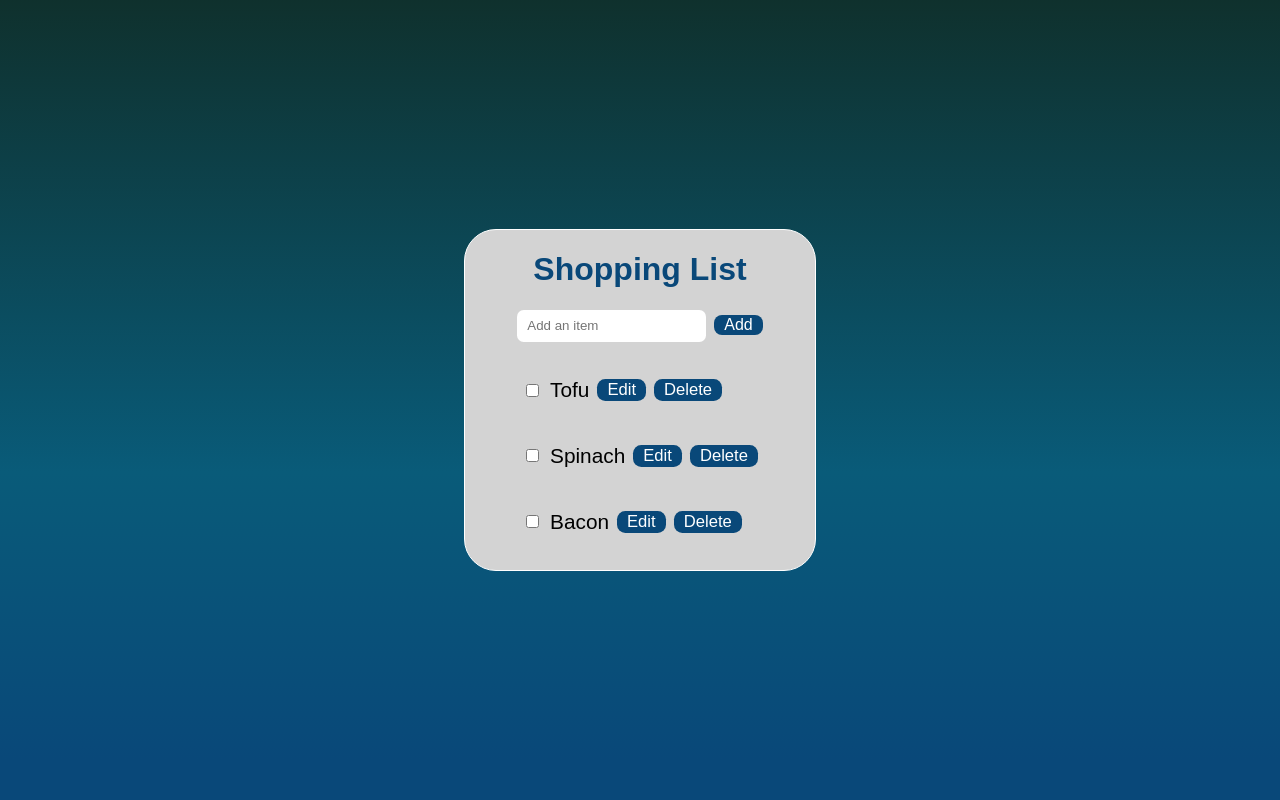
Test case: should delete an item to the list when delete is pressed
Click the button with aria-label "delete Tofu" at (688, 390), box x1=654 y1=379 x2=722 y2=401
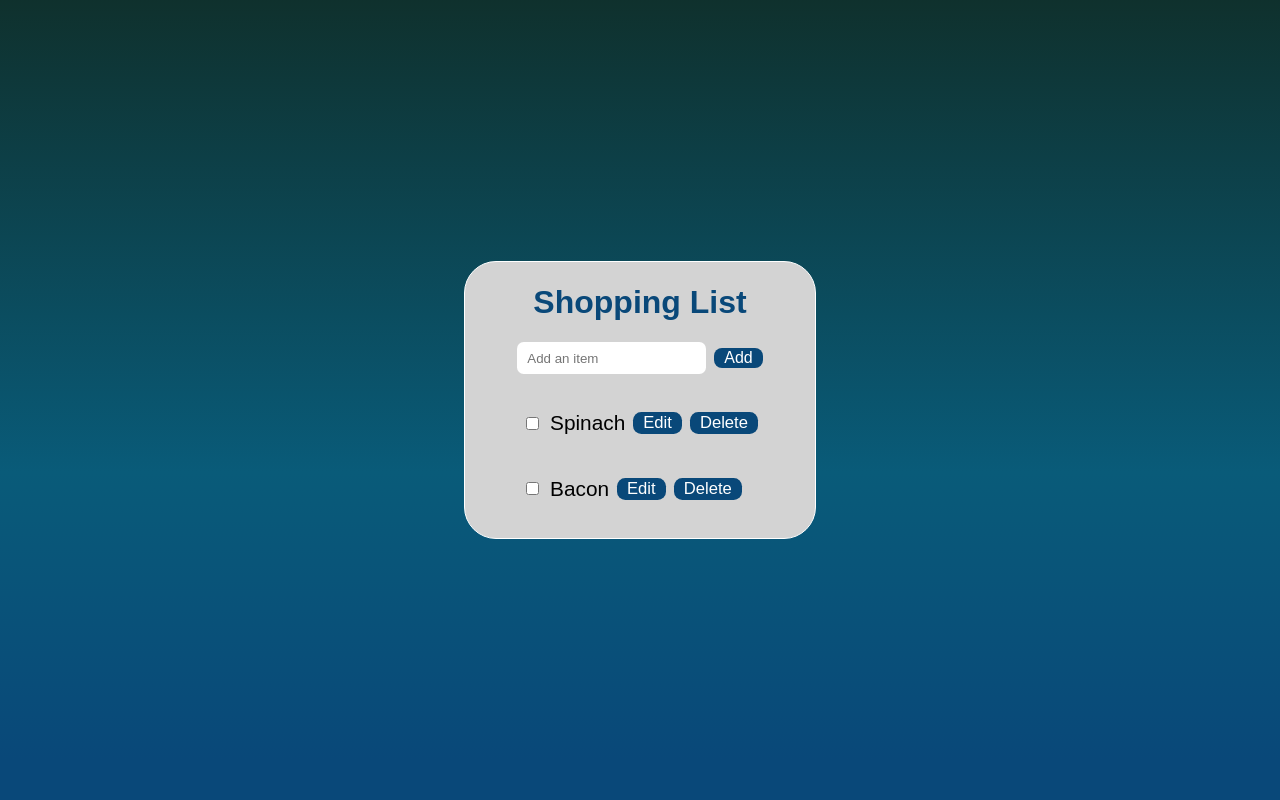
Expected: the text "Tofu" is gone
